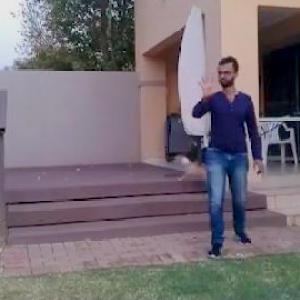follow_hand: (192, 67, 224, 102)
